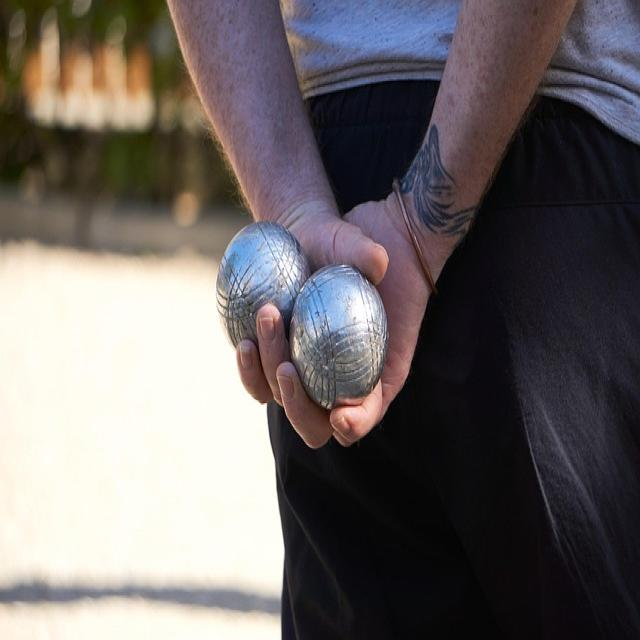petanque: (286, 269, 389, 408), (212, 219, 313, 356)
